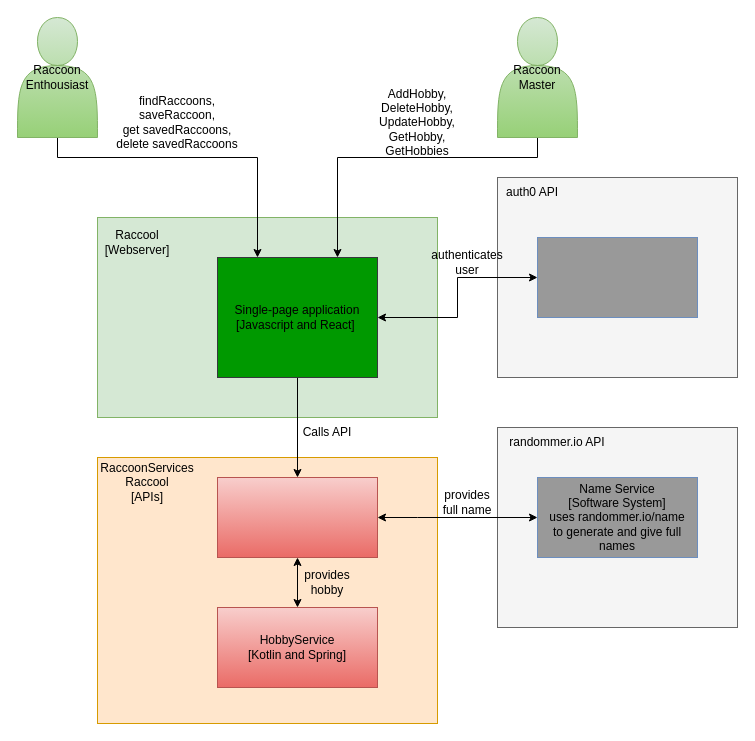
Some shapes in this 755 by 741 pixel diagram are drawn without their labels. Each missing label, with the centre of its shape:
"Login Service [Software System] uses auth0 to facilitate login process" goes at point 617,277.
"RaccoonService [Kotlin and Spring]" goes at point 297,517.
